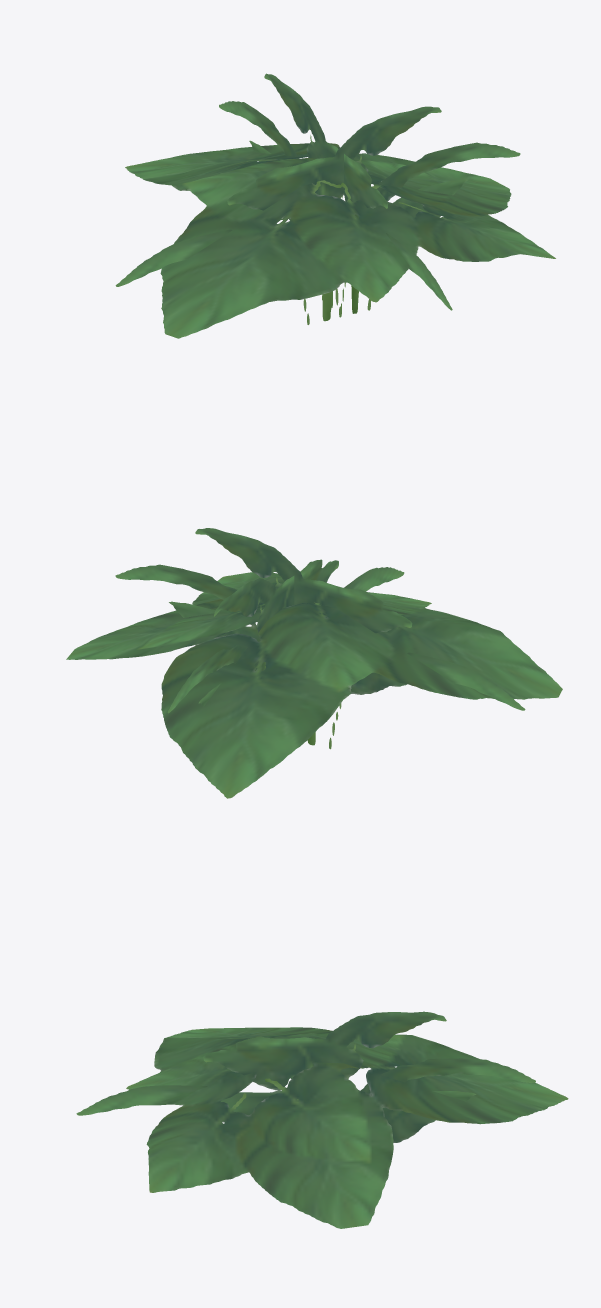
File: SM_EastLands_LargeLeaves_02.fbx
The picture shows the model from 3 angles, top to bottom: view 1: azimuth 30°, elevation 25°; view 2: azimuth 150°, elevation 25°; view 3: azimuth 270°, elevation 25°; orthographic projection. The views are drawn at different scales.
Visible parts, largest first — view 1: SM_EastLands_LargeLeaves_02_LOD2; view 2: SM_EastLands_LargeLeaves_02_LOD2; view 3: SM_EastLands_LargeLeaves_02_LOD2.
Boxes of the visible parts, x1=… form: SM_EastLands_LargeLeaves_02_LOD2: x1=115, y1=73, x2=555, y2=338; SM_EastLands_LargeLeaves_02_LOD2: x1=66, y1=528, x2=562, y2=798; SM_EastLands_LargeLeaves_02_LOD2: x1=76, y1=1011, x2=568, y2=1228.
Size of the model in its own units: 178 by 70.67 by 184.
